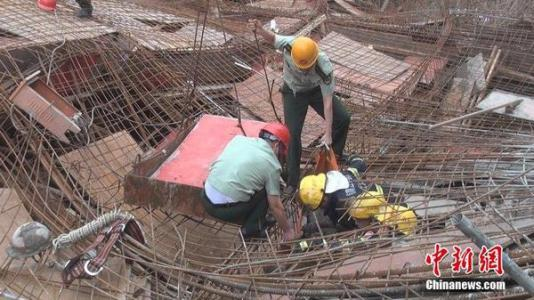helmet: (376, 206, 419, 249), (296, 171, 334, 210), (351, 189, 387, 230), (286, 34, 321, 72), (258, 124, 292, 158)
